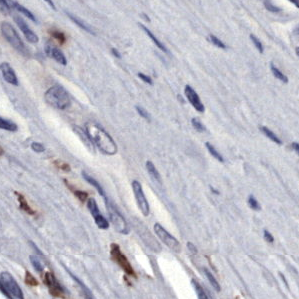Lymphocyte: (108, 242, 142, 280)
